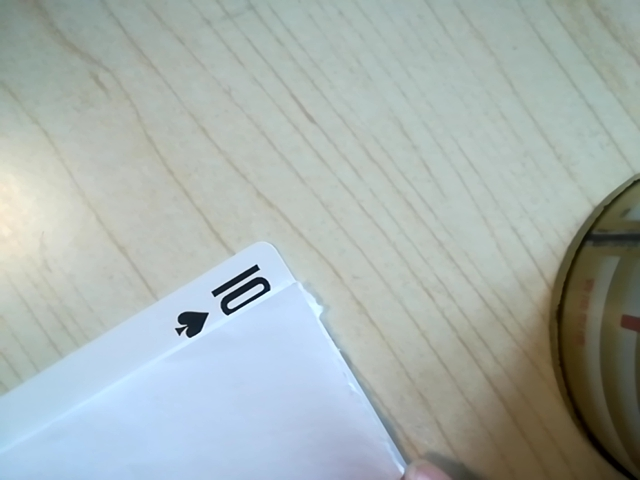ht 10: (160, 258, 285, 345)
